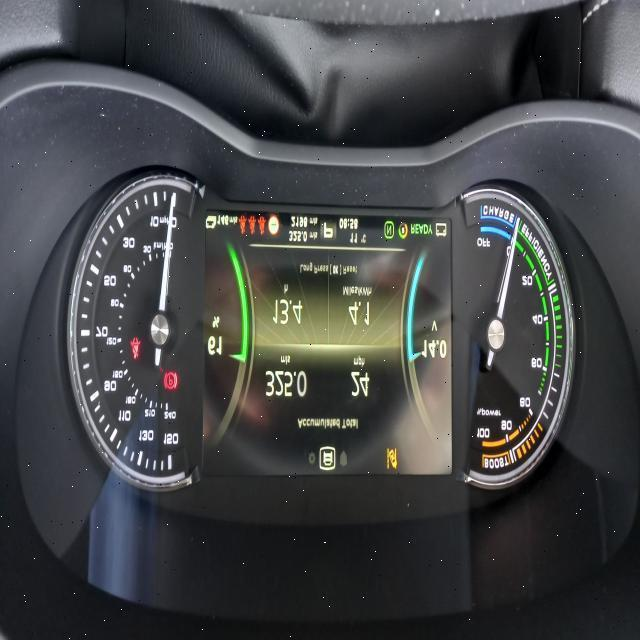Seat Belt: (127, 335, 141, 360), (248, 215, 257, 235), (238, 214, 245, 236), (259, 215, 265, 233)
